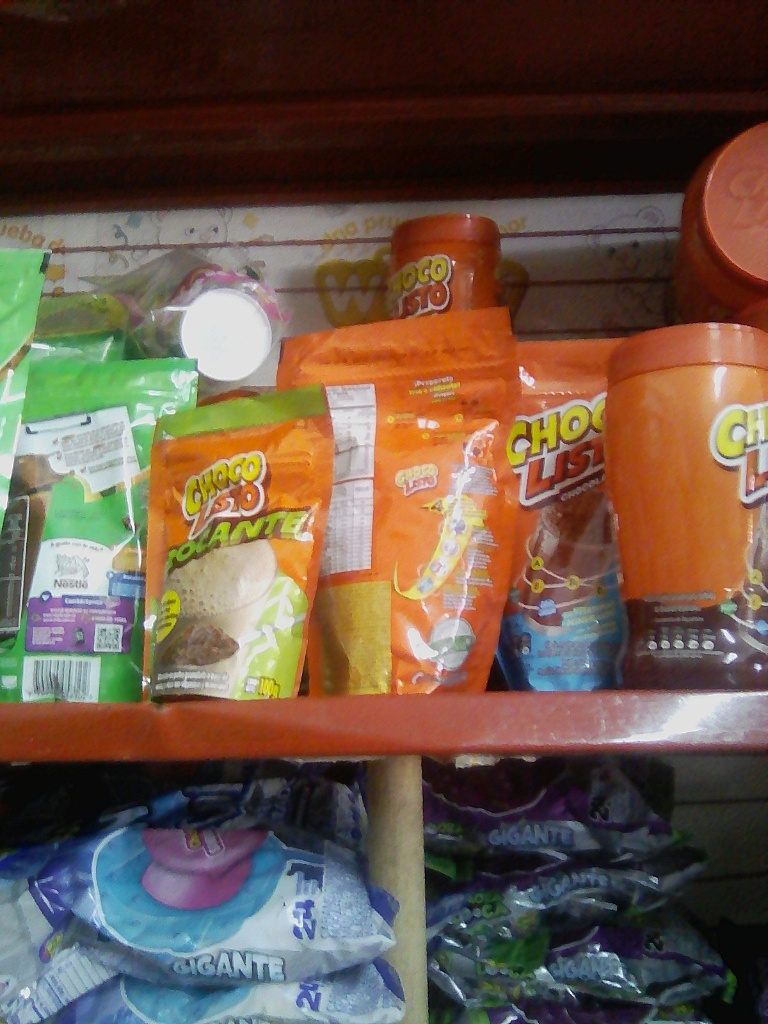COL0170102DYP10000: (143, 384, 334, 700)
COL0170103DYP20000: (279, 317, 528, 695)
COL0170103TRR30000: (603, 307, 766, 692)
COL0170104DYP20000: (453, 308, 657, 689)
COL0170203DYP25000: (0, 347, 194, 700)
